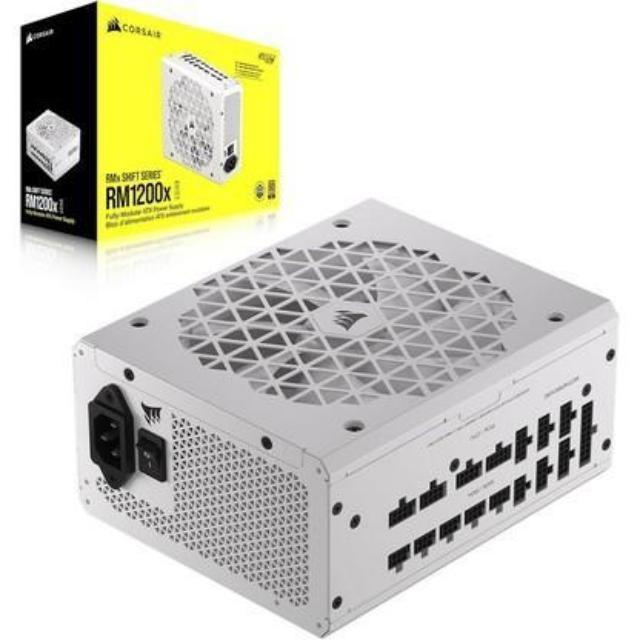PSU: (63, 195, 632, 640)
